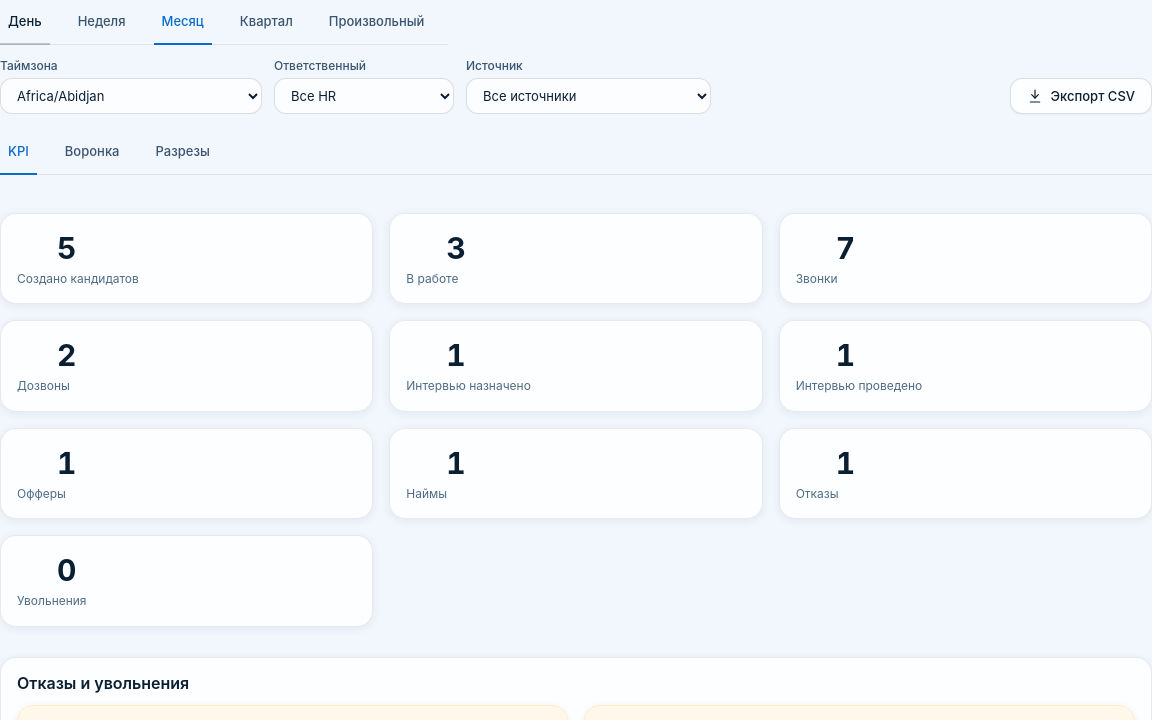
it: AnalyticsPage › keeps filters and period when switching views
Select "Сайт компании" in the dropdown labelled "Источник" at coordinates (588, 96), box [466,78,711,114]
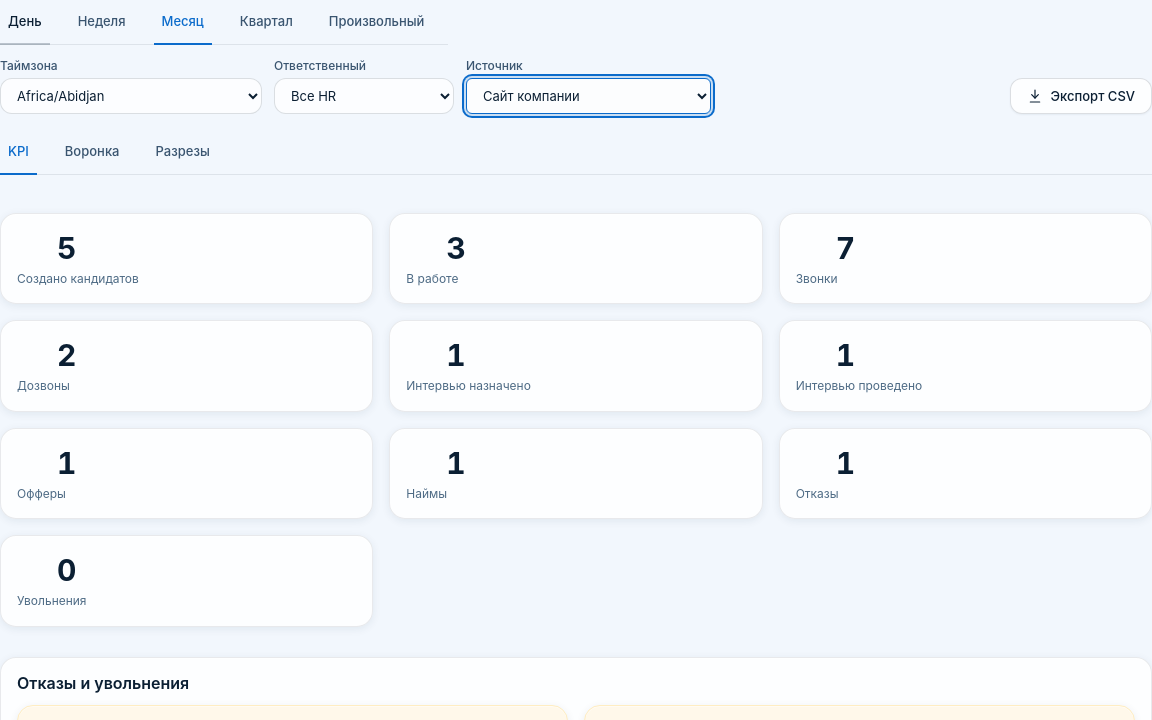
Click the tab "Воронка".
click(92, 153)  # box [57,130,128,175]
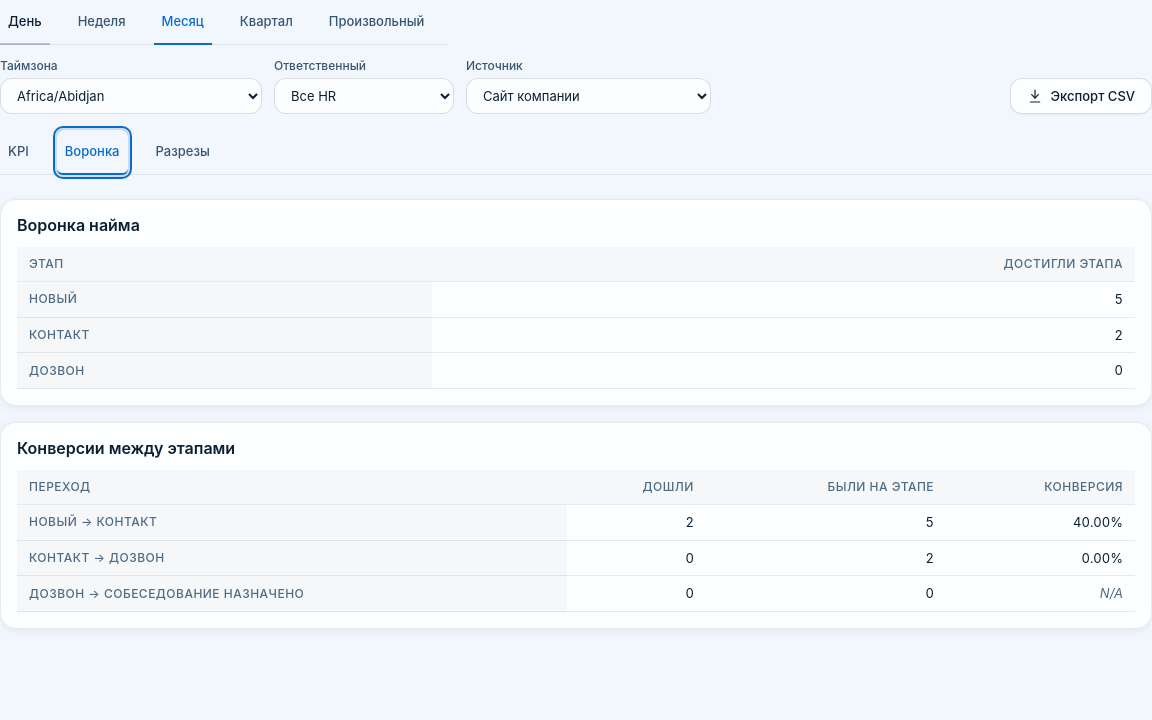
Click the tab "Разрезы".
click(183, 153)  # box [148,130,218,175]
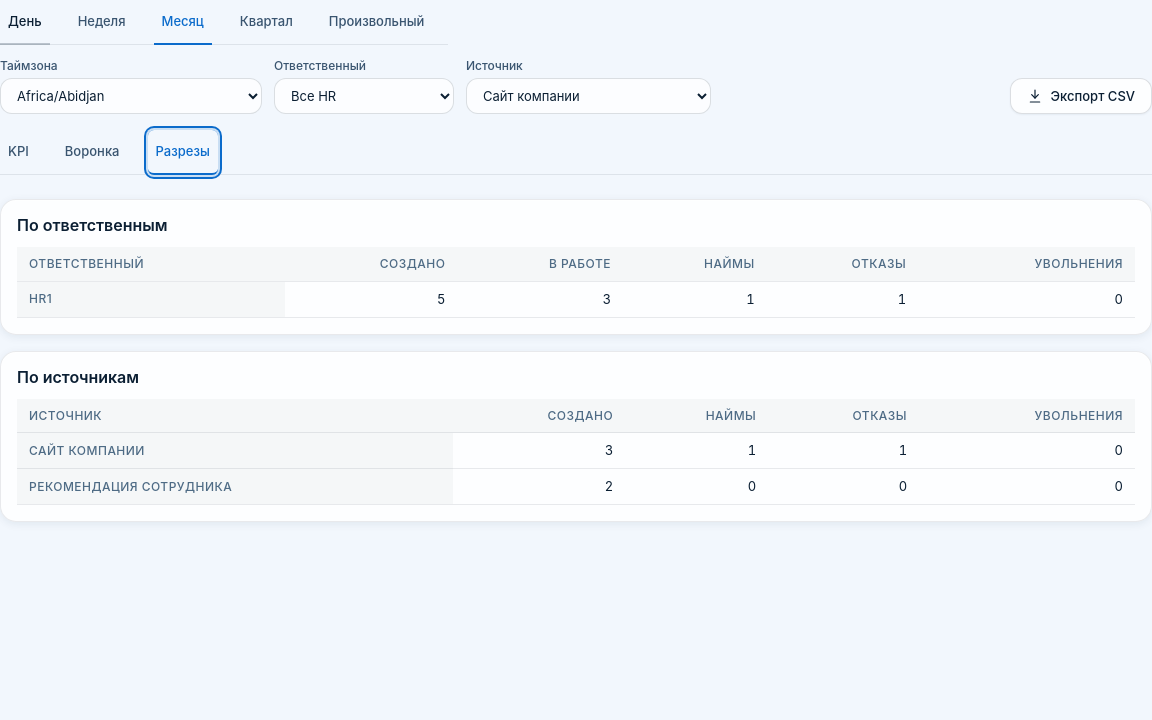
Now the heading "По ответственным" is shown, box [17,215,168,235]
Now the column heading "hr1" is shown, box [17,282,285,317]
Now the heading "По источникам" is shown, box [17,366,139,386]
